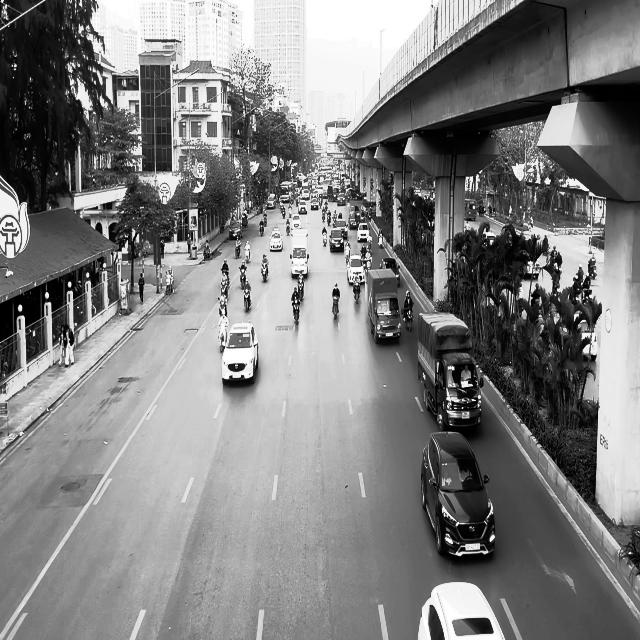car: (420, 430, 496, 558), (417, 581, 506, 639), (222, 321, 258, 385), (379, 257, 400, 286), (347, 255, 365, 284), (269, 229, 283, 251), (229, 220, 242, 240)
motorbike: (218, 318, 228, 353), (352, 276, 361, 302), (404, 307, 413, 332), (292, 296, 300, 323), (243, 285, 251, 312), (332, 294, 339, 320), (261, 260, 268, 282)
truck: (417, 311, 483, 432)
